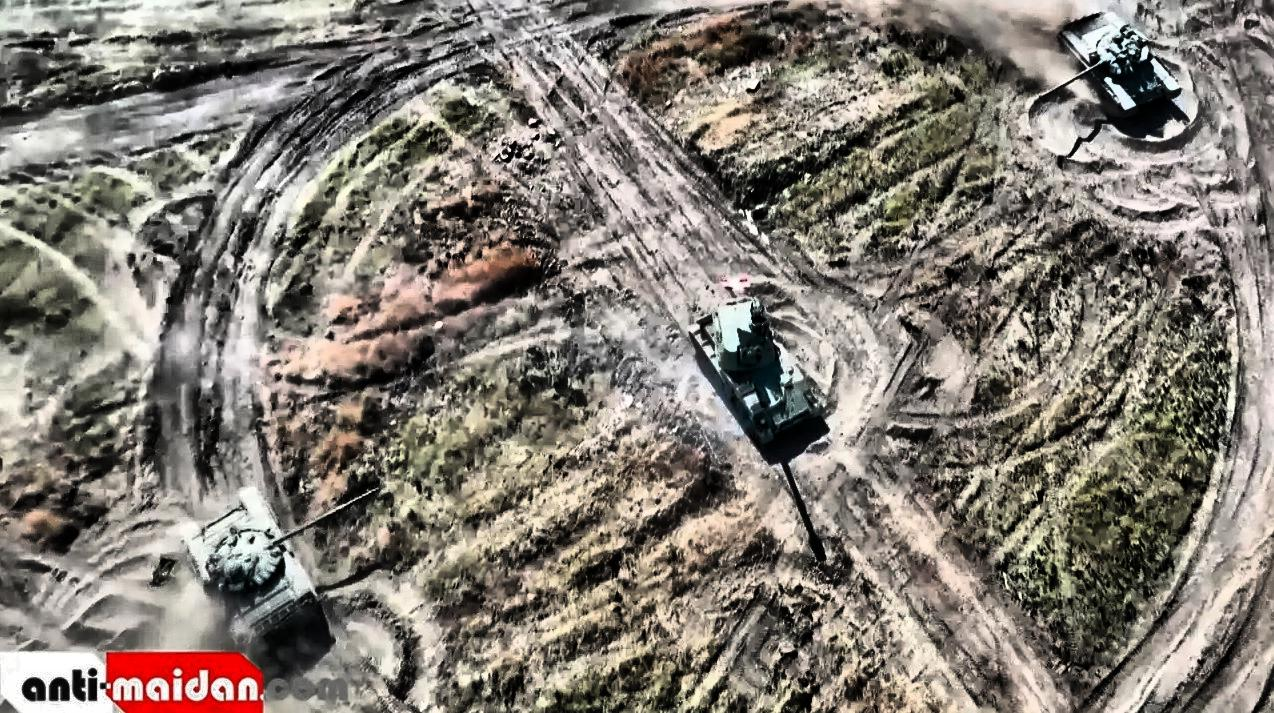military-vehicle: (180, 486, 384, 661), (690, 297, 827, 454), (1037, 9, 1183, 122)
